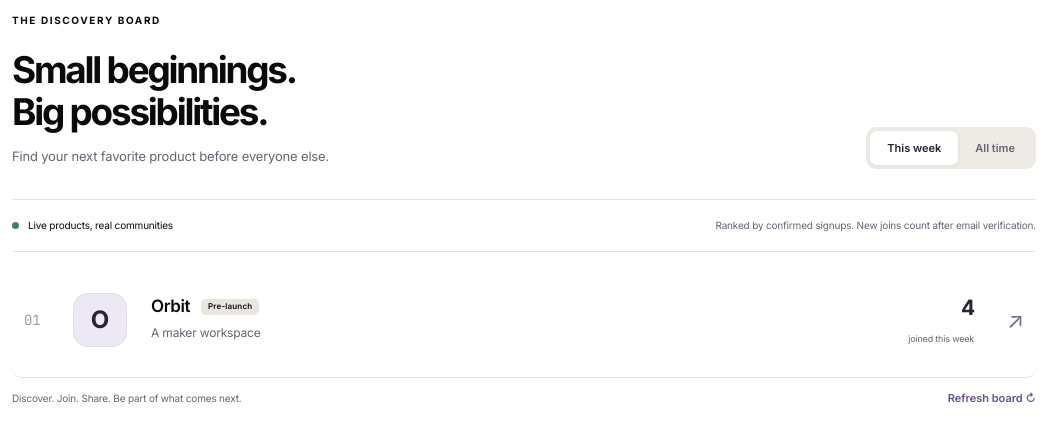
Test case: Product discovery › links real products and fetches the selected ranking period
Expected: the text "4" is shown, x1=961 y1=295 x2=974 y2=320
Click the button "All time".
click(995, 148)  # box x1=958 y1=131 x2=1032 y2=165
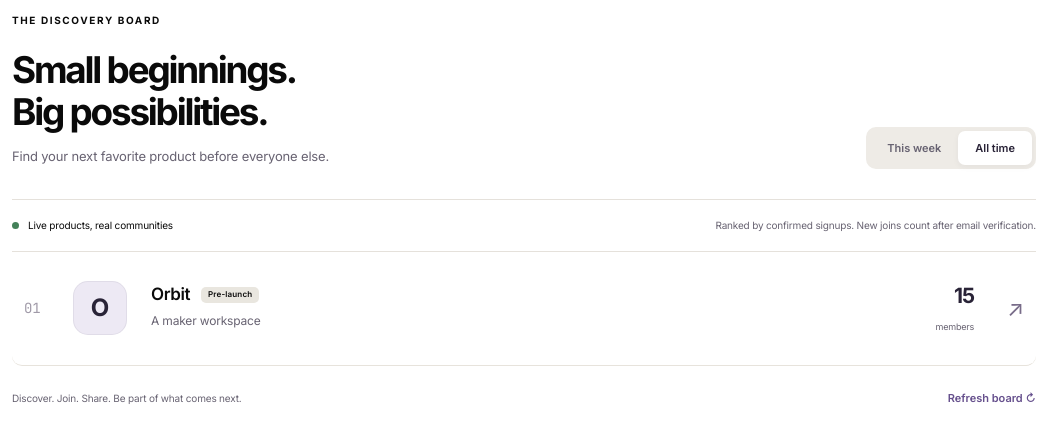
Expected: the text "15" is shown, x1=954 y1=283 x2=974 y2=308
